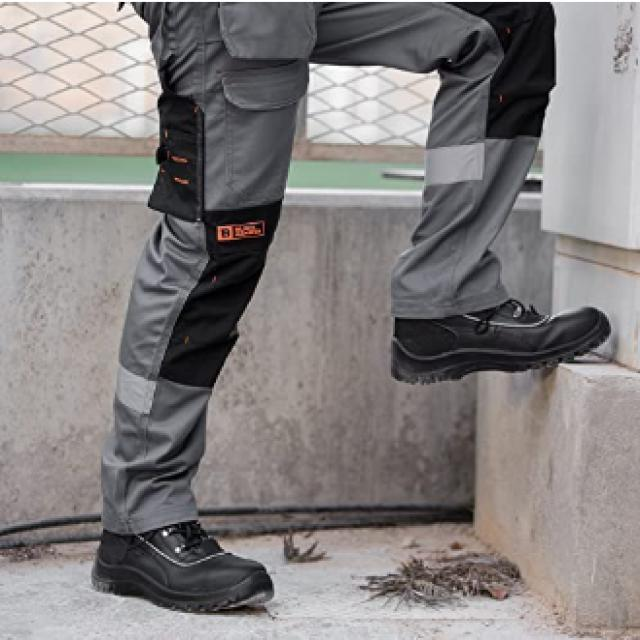shoes: (386, 286, 611, 385), (90, 522, 274, 610)
